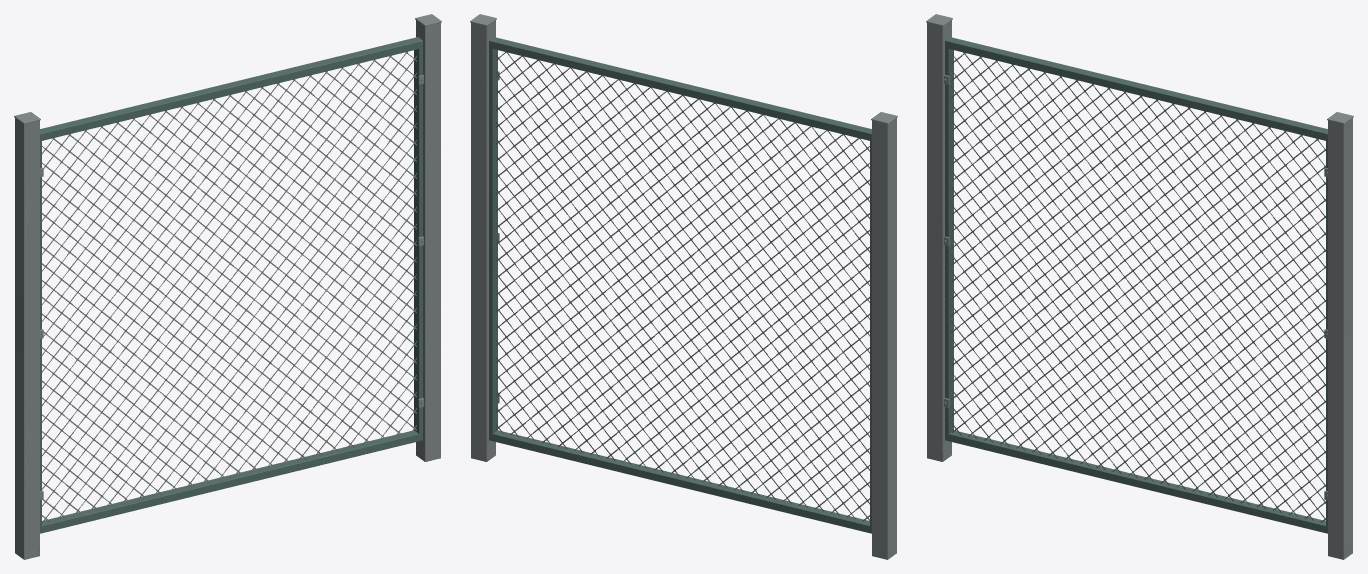
Rendered from chainlink_fence_straight.glb.
The picture shows the model from 3 angles, left to right: view 1: azimuth 30°, elevation 25°; view 2: azimuth 150°, elevation 25°; view 3: azimuth 330°, elevation 25°; orthographic projection.
Visible parts, largest first — view 1: ChainlinkMeshStraight, ChainlinkFenceStraight; view 2: ChainlinkMeshStraight, ChainlinkFenceStraight; view 3: ChainlinkMeshStraight, ChainlinkFenceStraight.
Part boxes in pixels (x1,y1,x2,y2): ChainlinkMeshStraight: (42,51,416,523); ChainlinkFenceStraight: (14,14,441,559); ChainlinkMeshStraight: (496,52,869,521); ChainlinkFenceStraight: (470,14,897,559); ChainlinkMeshStraight: (951,52,1325,522); ChainlinkFenceStraight: (926,14,1353,559).
Size of what is drawn, in the model's own units: 2.09 by 2.09 by 0.086.
2 materials, 2 textured.
